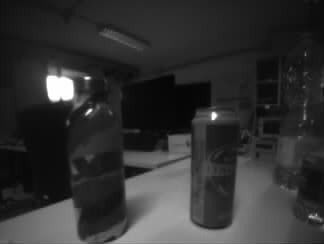Bottle: (63, 76, 130, 244), (270, 28, 324, 215)
Tin can: (190, 108, 240, 231)
